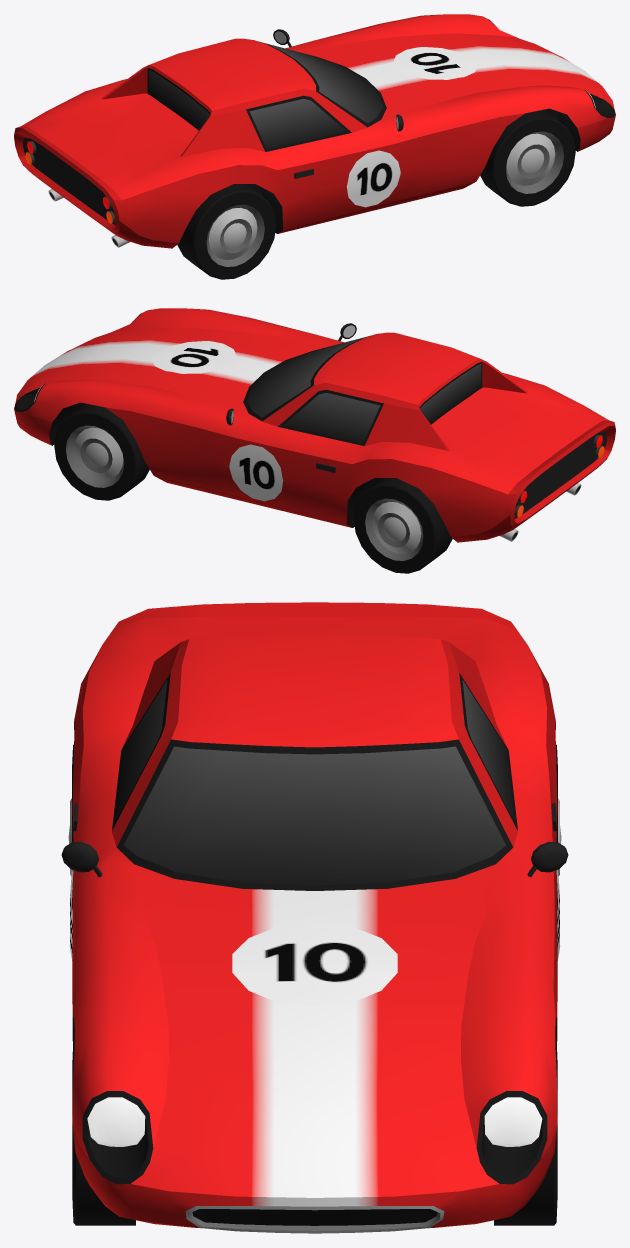
File: RaceCar_086.glb
3 renders of one model, top to bottom at view 1: azimuth 30°, elevation 25°; view 2: azimuth 150°, elevation 25°; view 3: azimuth 270°, elevation 25°, orthographic. The views are drawn at different scales.
Visible parts, largest first — view 1: RaceCar_086, wheel_3_RaceCar_086_Wheel_2R, wheel_1_RaceCar_086_Wheel_1R; view 2: RaceCar_086, wheel_2_RaceCar_086_Wheel_2L, wheel_0_RaceCar_086_Wheel_1L; view 3: RaceCar_086, wheel_0_RaceCar_086_Wheel_1L, wheel_1_RaceCar_086_Wheel_1R.
Boxes of the visible parts, x1=… form: RaceCar_086: x1=14, y1=14, x2=615, y2=248; wheel_3_RaceCar_086_Wheel_2R: x1=177, y1=184, x2=276, y2=279; wheel_1_RaceCar_086_Wheel_1R: x1=480, y1=109, x2=575, y2=206; RaceCar_086: x1=14, y1=308, x2=615, y2=542; wheel_2_RaceCar_086_Wheel_2L: x1=353, y1=478, x2=452, y2=573; wheel_0_RaceCar_086_Wheel_1L: x1=54, y1=403, x2=149, y2=500; RaceCar_086: x1=61, y1=602, x2=568, y2=1233; wheel_0_RaceCar_086_Wheel_1L: x1=494, y1=1036, x2=557, y2=1225; wheel_1_RaceCar_086_Wheel_1R: x1=72, y1=1036, x2=135, y2=1225.
Size of the model in its own units: 4.59 by 1.27 by 1.92.
Materials: 3 (3 with a texture image).
